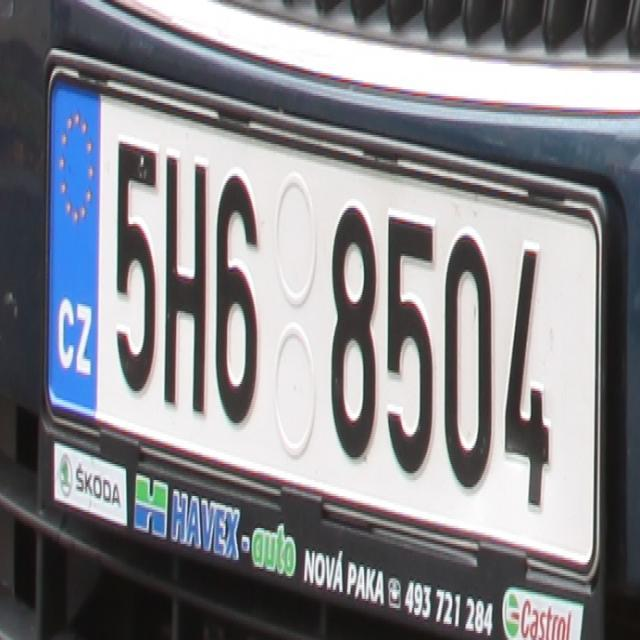0: (441, 219, 494, 494)
4: (500, 242, 554, 508)
5: (381, 208, 438, 476), (111, 132, 160, 400)
6: (212, 169, 260, 425)
8: (329, 195, 376, 460)
H: (162, 140, 208, 418)
